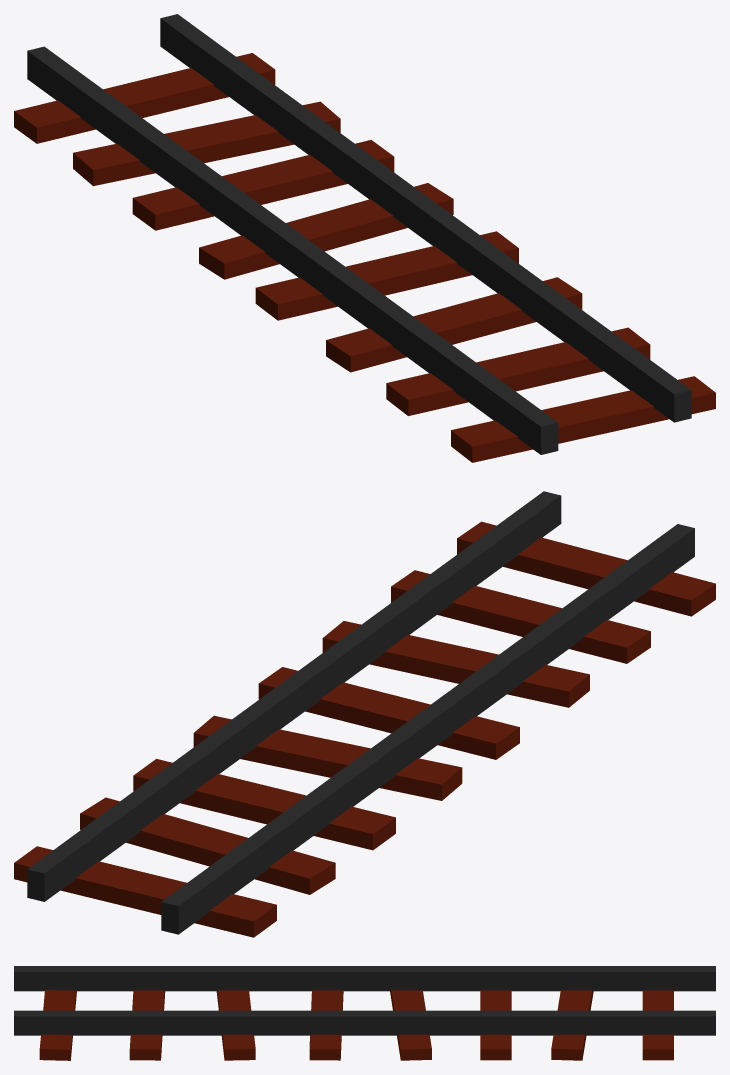
File: Rail.fbx
The picture shows the model from 3 angles, top to bottom: view 1: azimuth 30°, elevation 25°; view 2: azimuth 150°, elevation 25°; view 3: azimuth 270°, elevation 25°; orthographic projection. The views are drawn at different scales.
Parts seen in each view (by area): view 1: Rail; view 2: Rail; view 3: Rail.
Boxes of the visible parts, bbox=[...] form: Rail: bbox=[14, 14, 715, 462]; Rail: bbox=[14, 491, 715, 937]; Rail: bbox=[14, 966, 715, 1060].
Bounding box in the file's own units: 437 × 75.6 × 1617.
